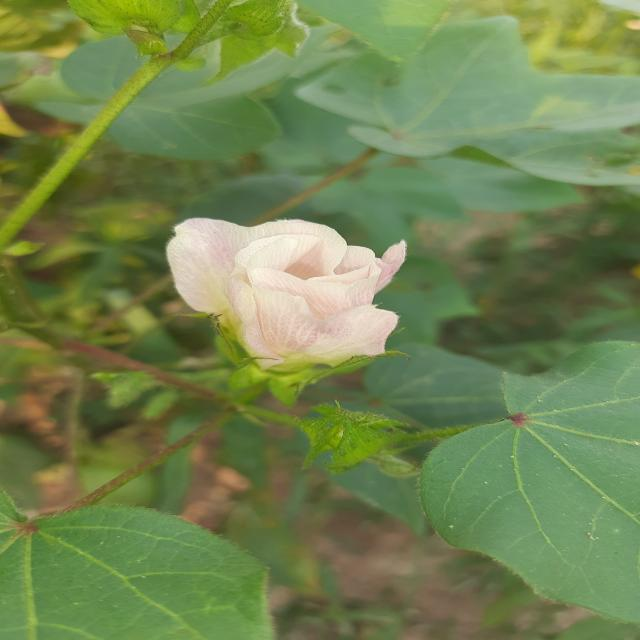Cotton Blossom: (158, 212, 420, 394)
